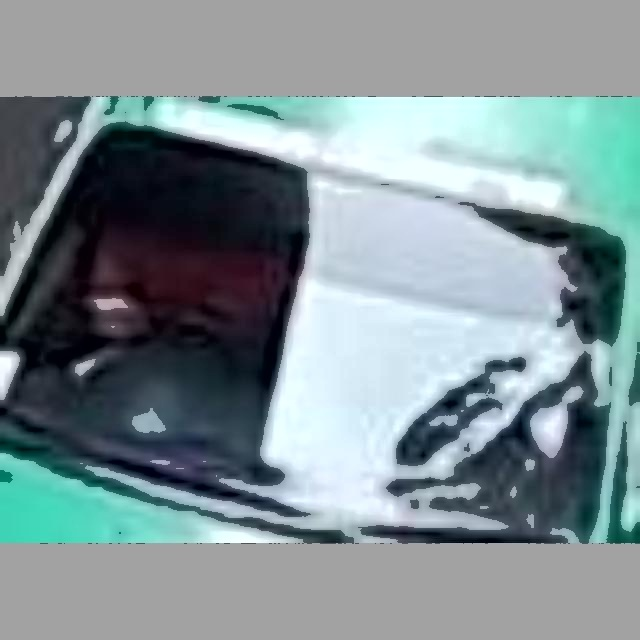tidak-pakai: (78, 188, 304, 375)
